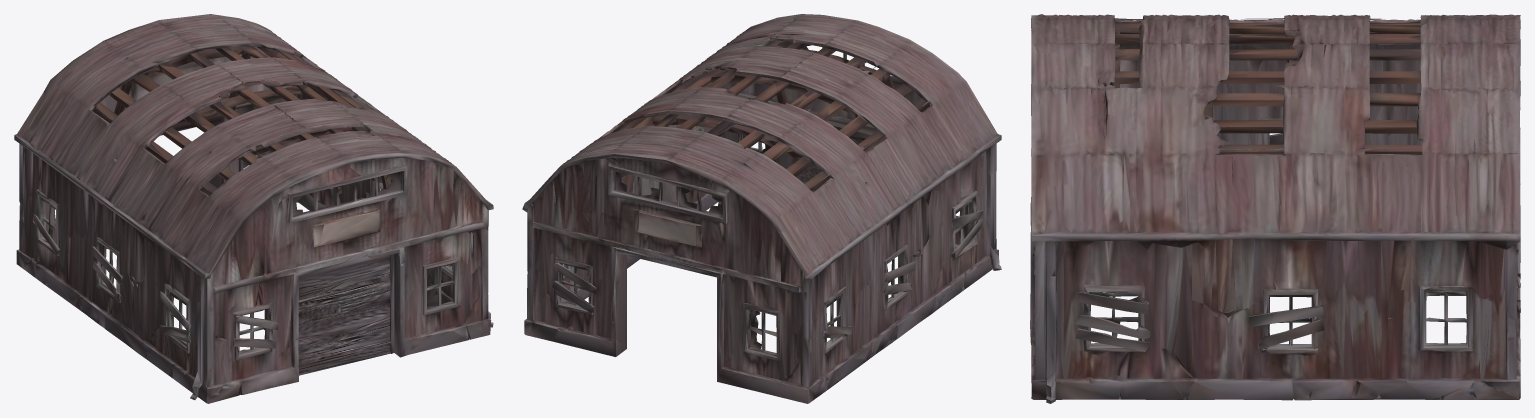
File: hangar_idle.glb
The picture shows the model from 3 angles, left to right: view 1: azimuth 30°, elevation 25°; view 2: azimuth 150°, elevation 25°; view 3: azimuth 270°, elevation 25°; orthographic projection. The views are drawn at different scales.
Parts seen in each view (by area): view 1: tripo_node_641d810d-994a-4d50-9a81-0b286c03aca8; view 2: tripo_node_641d810d-994a-4d50-9a81-0b286c03aca8; view 3: tripo_node_641d810d-994a-4d50-9a81-0b286c03aca8.
Part boxes in pixels (x1,y1,x2,y2): tripo_node_641d810d-994a-4d50-9a81-0b286c03aca8: [14, 14, 493, 403]; tripo_node_641d810d-994a-4d50-9a81-0b286c03aca8: [522, 14, 1001, 403]; tripo_node_641d810d-994a-4d50-9a81-0b286c03aca8: [1030, 14, 1520, 403].
Bounding box in the file's own units: 24 × 15.88 × 26.26.
Materials: 1 (1 with a texture image).
